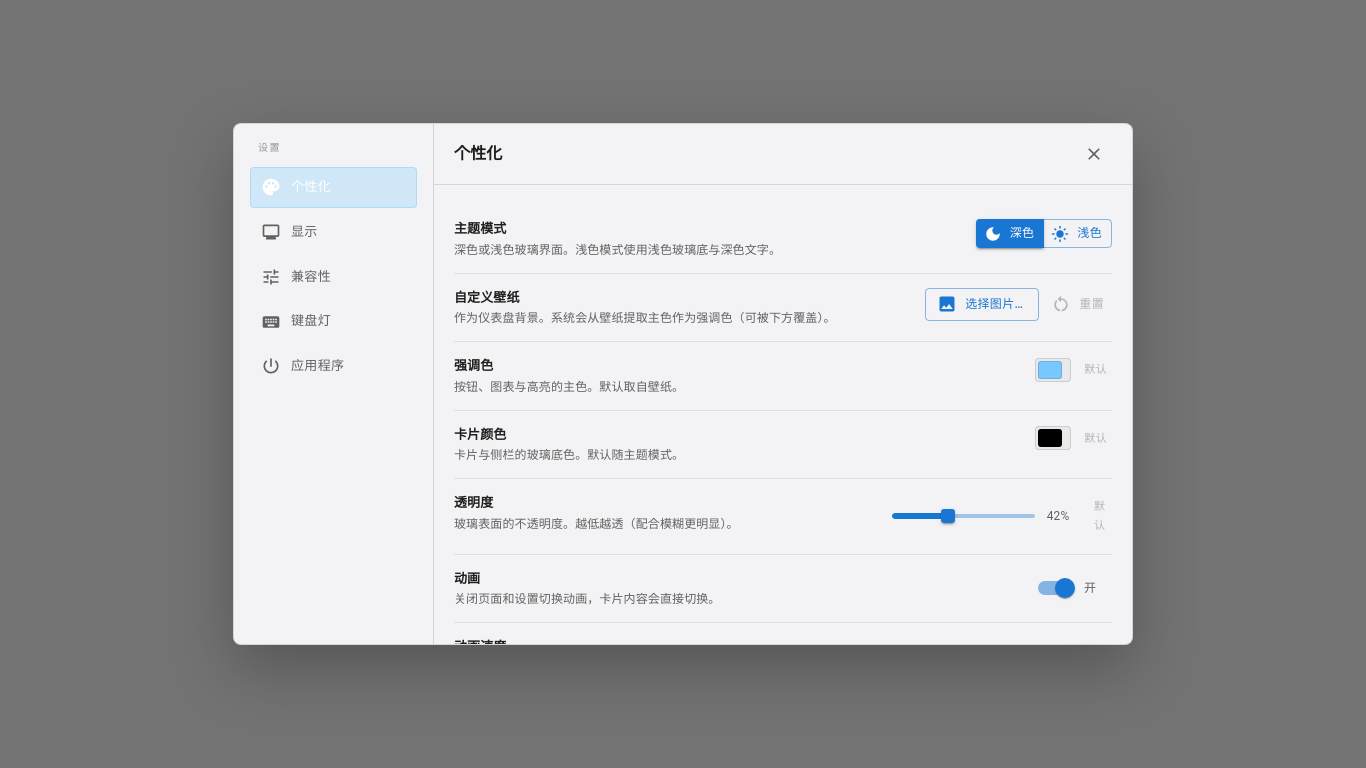
SettingsDialog › shows the display section with resolution and scale
What coordinates should you click on to do the following:
click the button "显示"
I would click on:
 (334, 232)
Its box is [250,212,417,253].
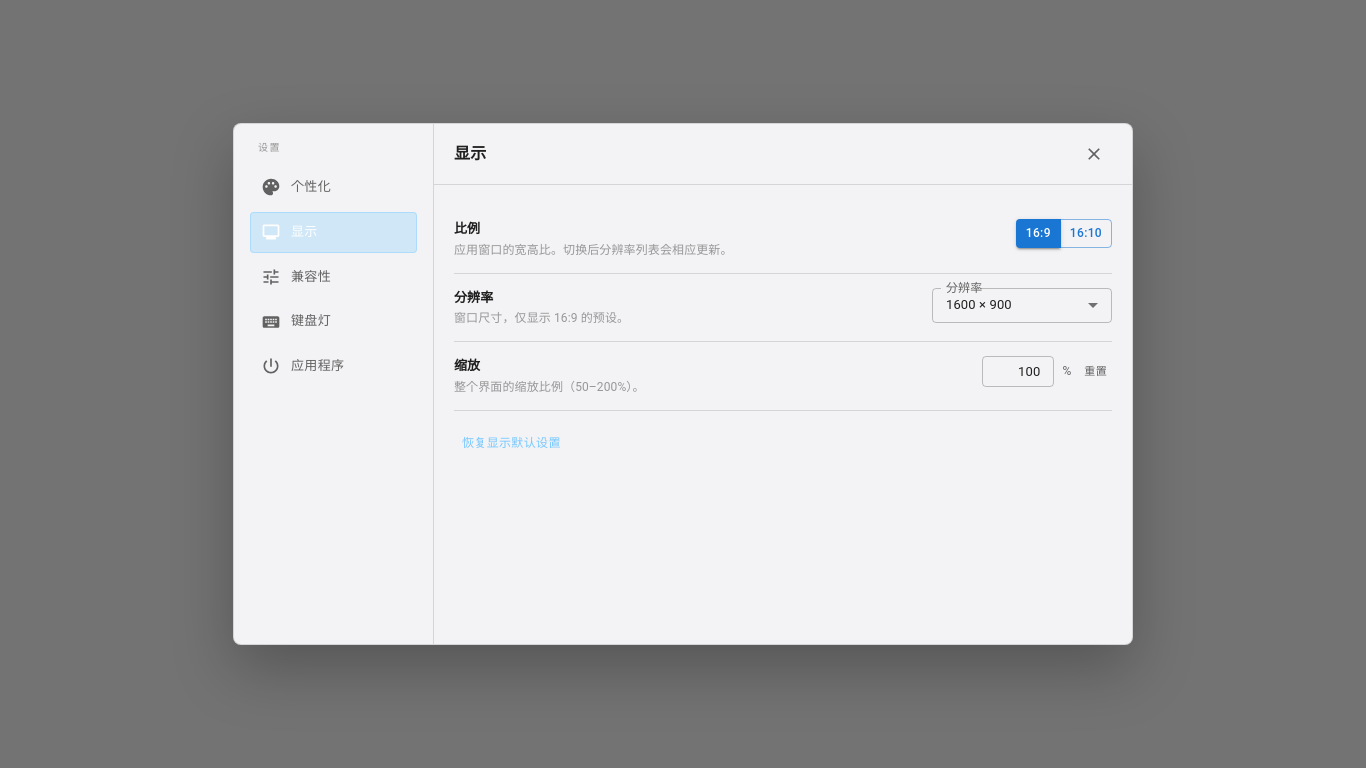
Result: the text "分辨率" is shown at [454,290,493,304]
Result: the text "缩放" is shown at [454,358,480,373]
